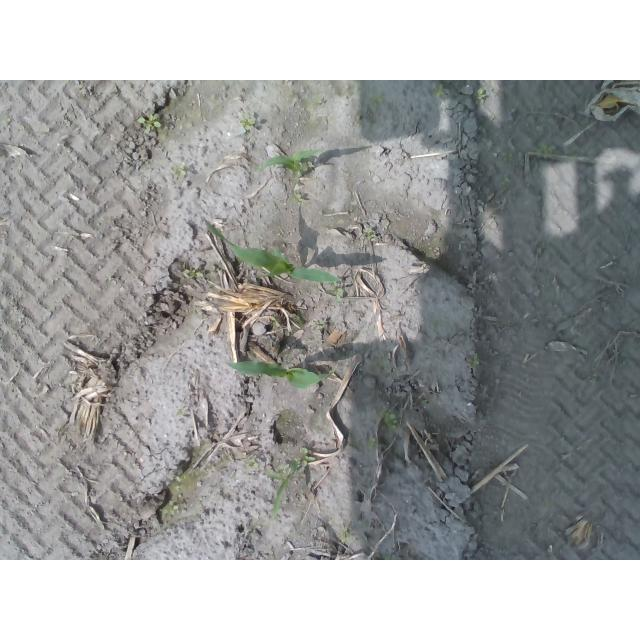Maize: (202, 217, 339, 284), (223, 360, 326, 390), (268, 457, 308, 515), (257, 149, 321, 176)
Weeds: (137, 112, 164, 133), (536, 144, 557, 161), (160, 500, 180, 516), (381, 412, 397, 431), (183, 269, 206, 281), (328, 288, 345, 304), (472, 87, 489, 103), (338, 529, 354, 544), (169, 164, 186, 178), (240, 118, 254, 131), (469, 354, 480, 367), (290, 194, 302, 205), (301, 447, 308, 465), (434, 86, 446, 96), (366, 231, 375, 241), (370, 439, 377, 449)
